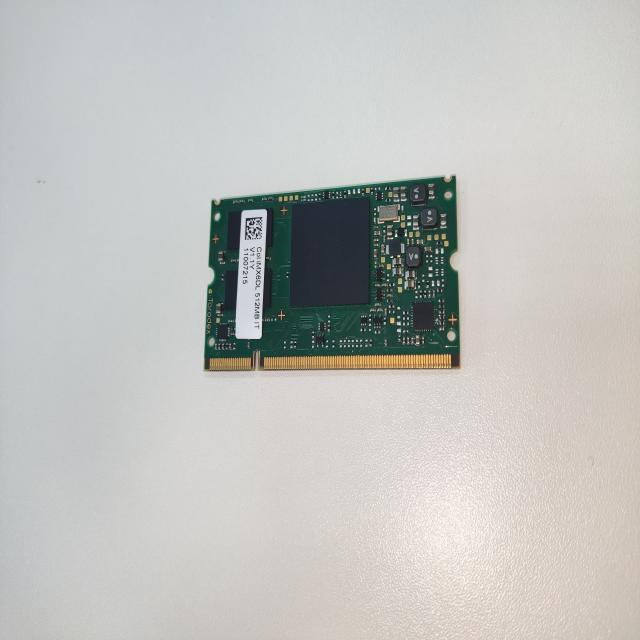som: (188, 169, 474, 387)
